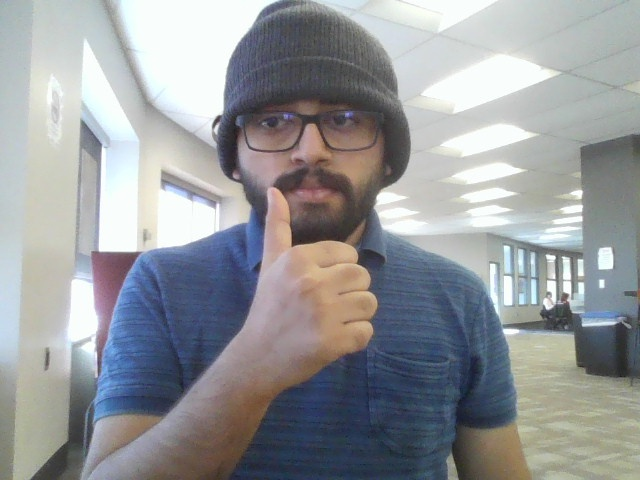confirm: (228, 184, 401, 401)
